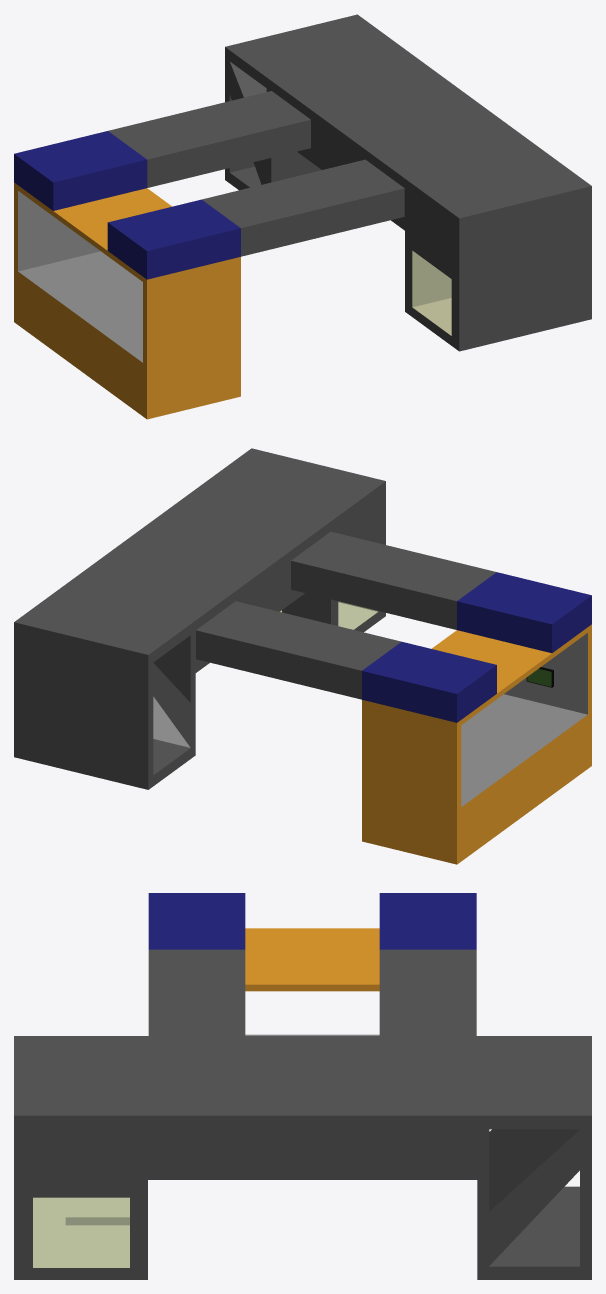
File: CraterElevator.glb
3 renders of one model, top to bottom at view 1: azimuth 30°, elevation 25°; view 2: azimuth 150°, elevation 25°; view 3: azimuth 270°, elevation 25°, orthographic. The views are drawn at different scales.
Parts seen in each view (by area): view 1: ElevatorDock, Elevator; view 2: ElevatorDock, Elevator; view 3: ElevatorDock, Elevator.
Part boxes in pixels (x1=…): ElevatorDock: x1=14, y1=14, x2=591, y2=351; Elevator: x1=14, y1=182, x2=240, y2=419; ElevatorDock: x1=14, y1=448, x2=591, y2=789; Elevator: x1=362, y1=624, x2=591, y2=864; ElevatorDock: x1=14, y1=893, x2=591, y2=1279; Elevator: x1=245, y1=928, x2=379, y2=1035.
Bounding box in the file's own units: 12.91 × 5.63 × 13.42.
